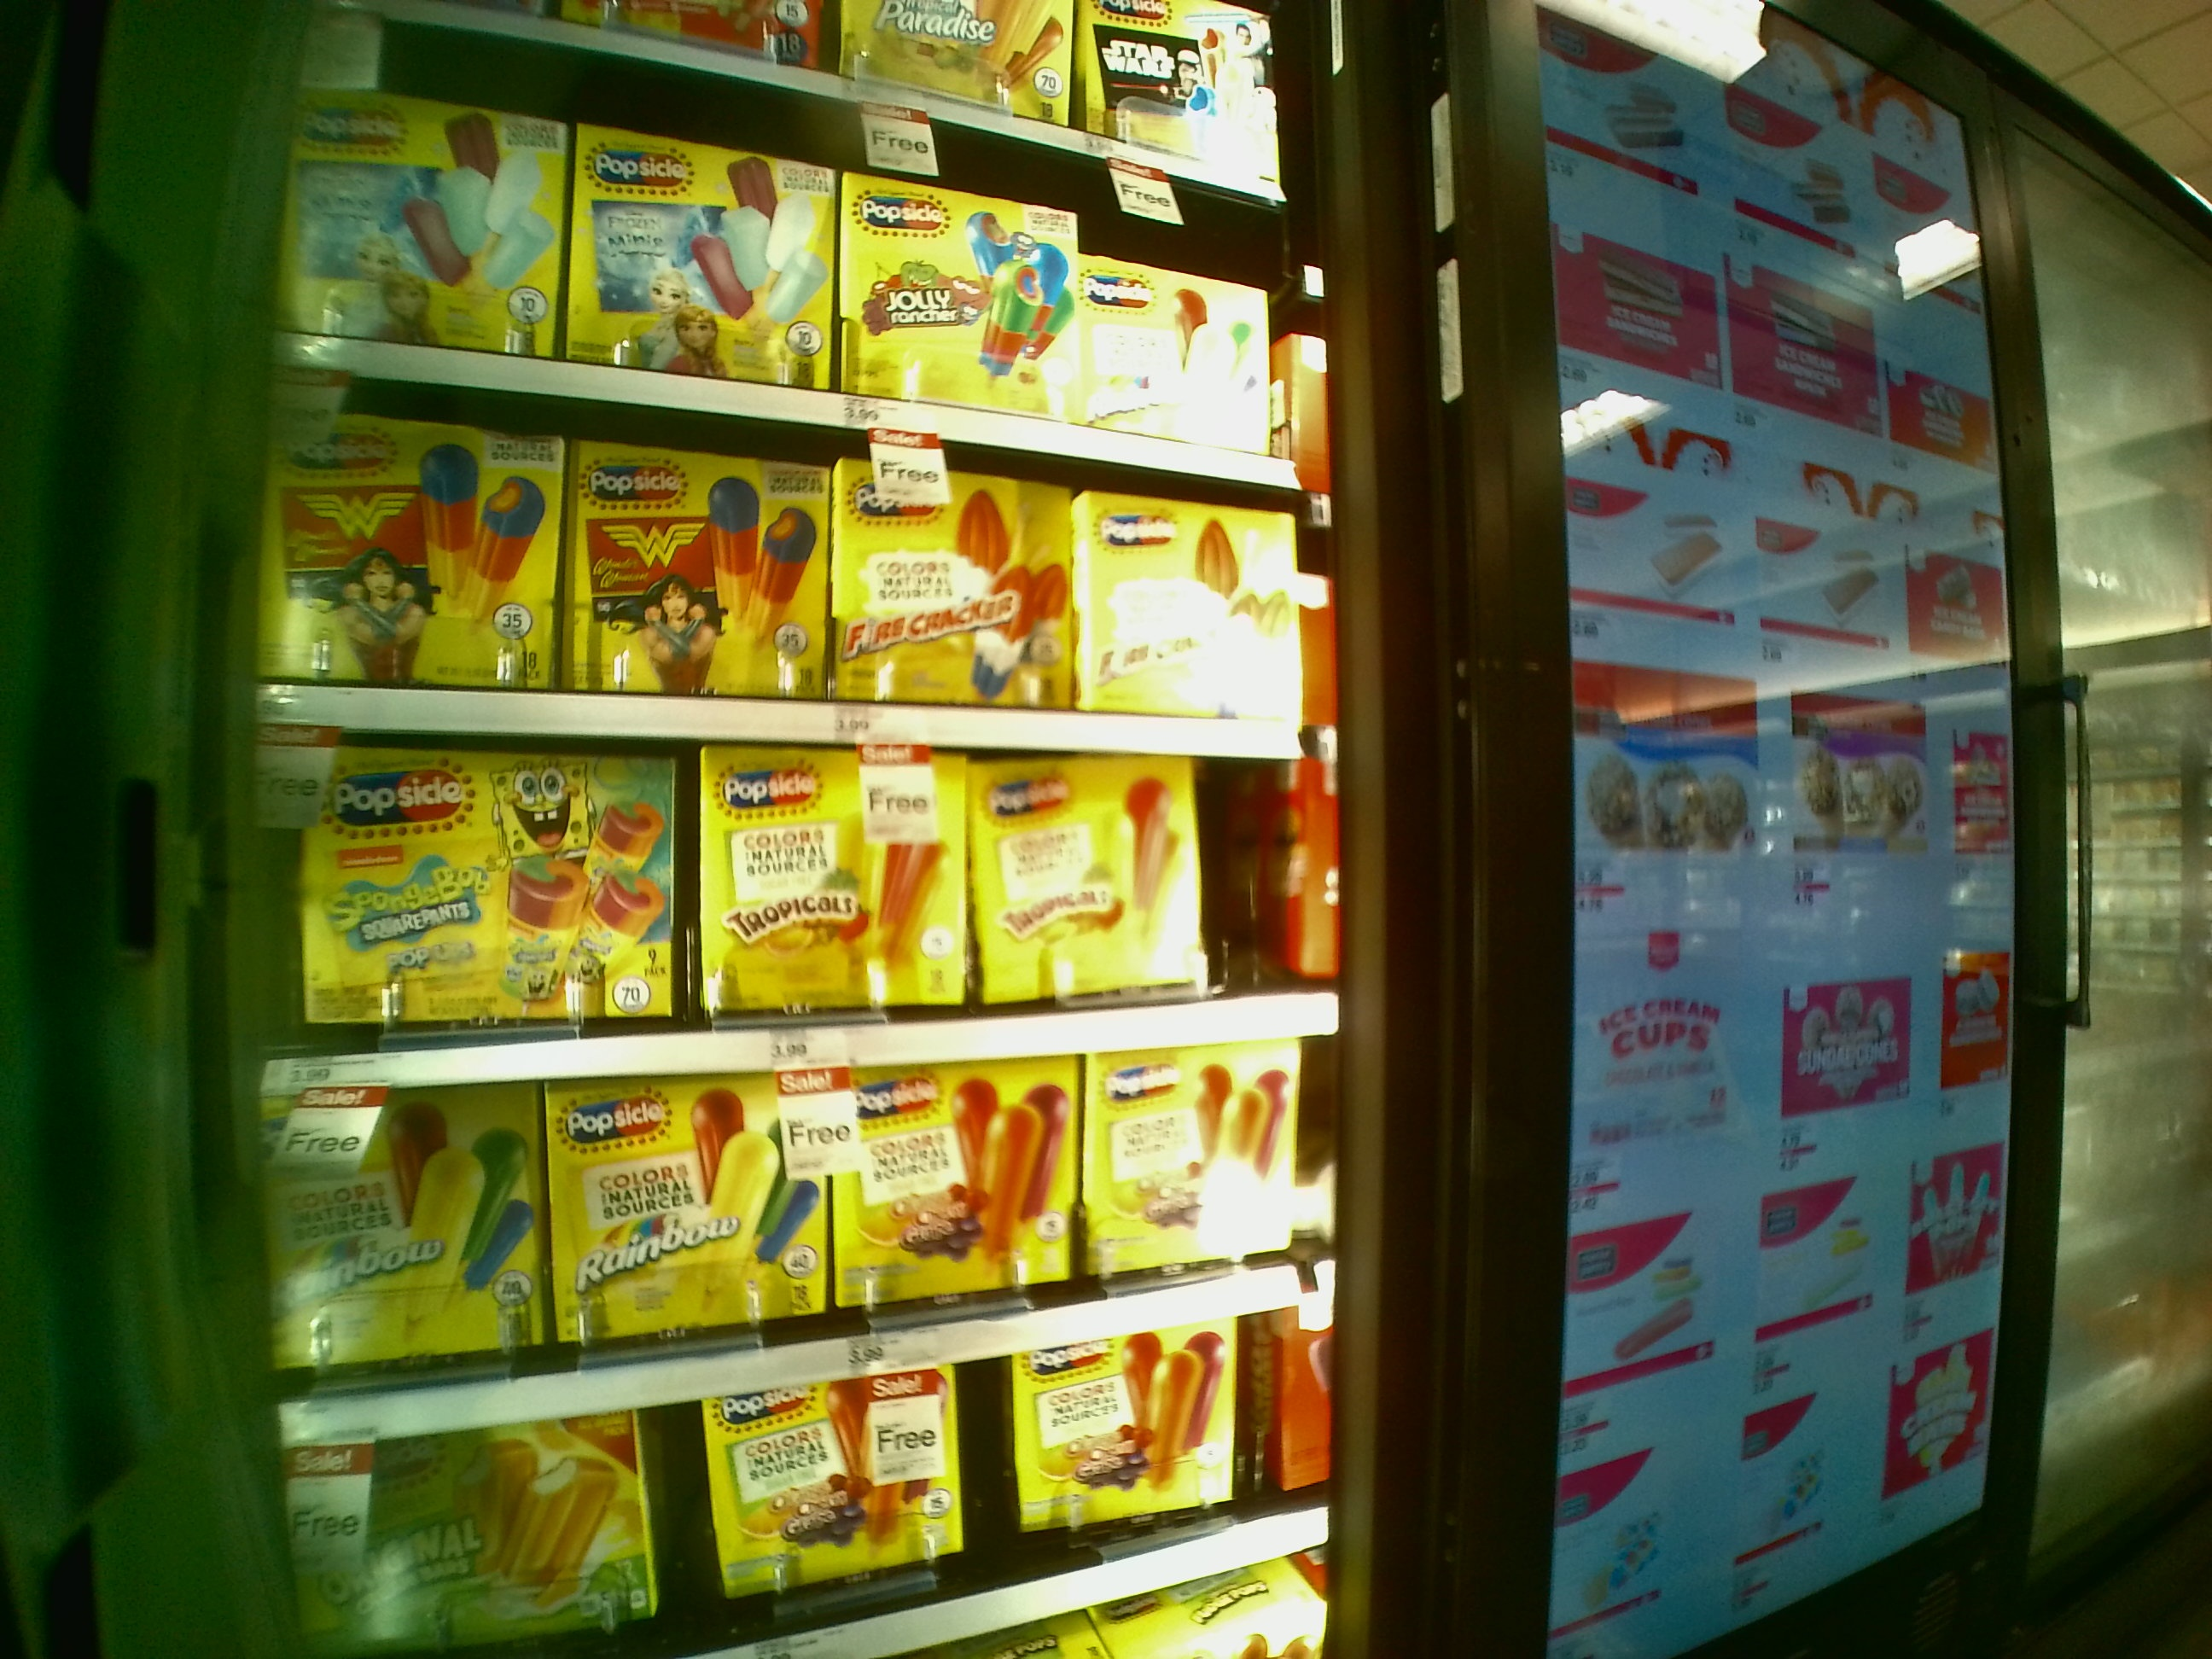shelf: (260, 728, 1312, 1049), (275, 1037, 1325, 1351), (268, 434, 1320, 734), (294, 132, 1294, 444)
